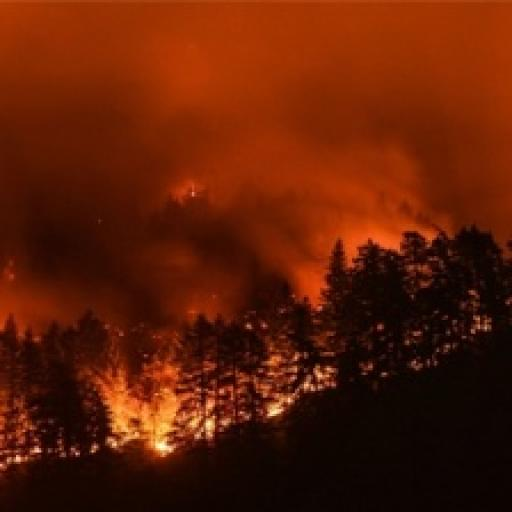fire and smoke: (0, 3, 511, 322)
